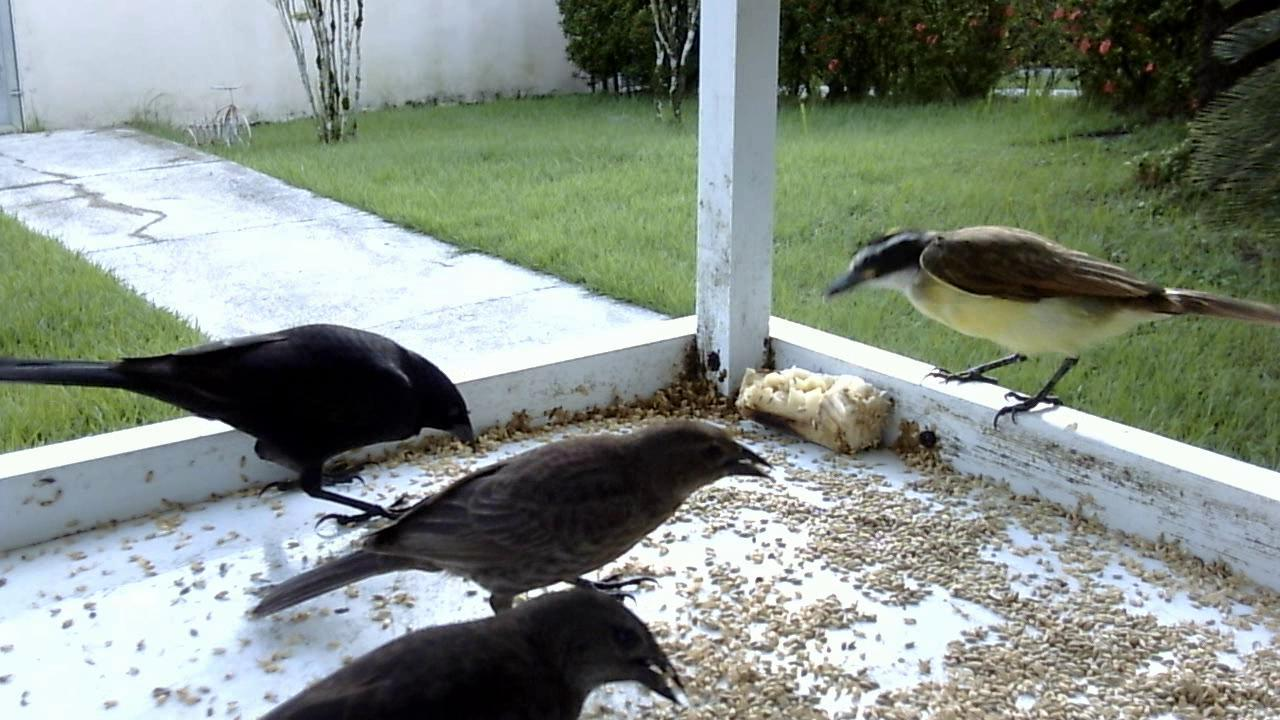bem_te_vi: (816, 204, 1270, 449)
chupim: (252, 409, 780, 647), (4, 311, 488, 537), (242, 575, 704, 720)
